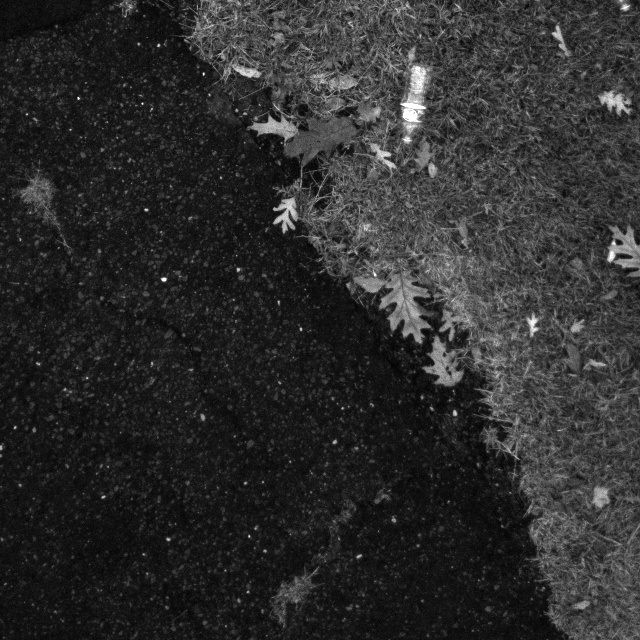bottle: (389, 57, 435, 157)
